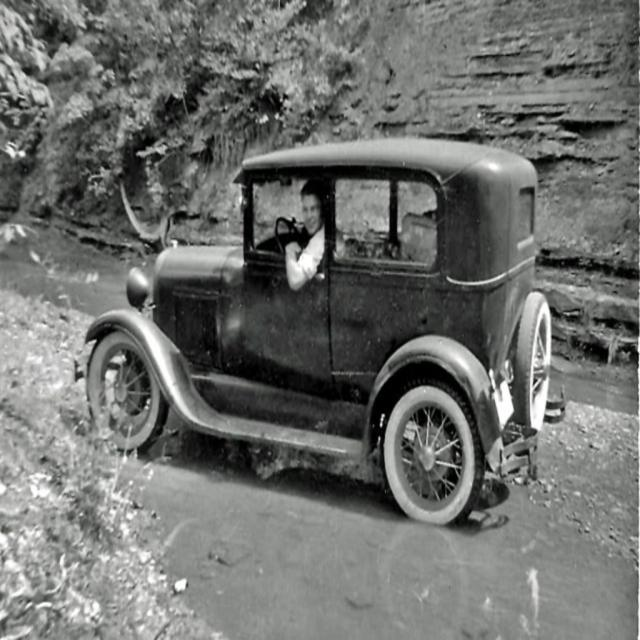car: (69, 131, 567, 520)
